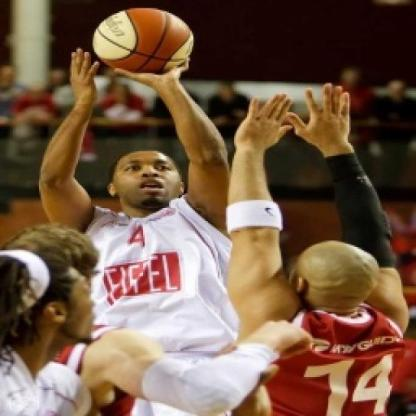basketball: (84, 3, 201, 80)
